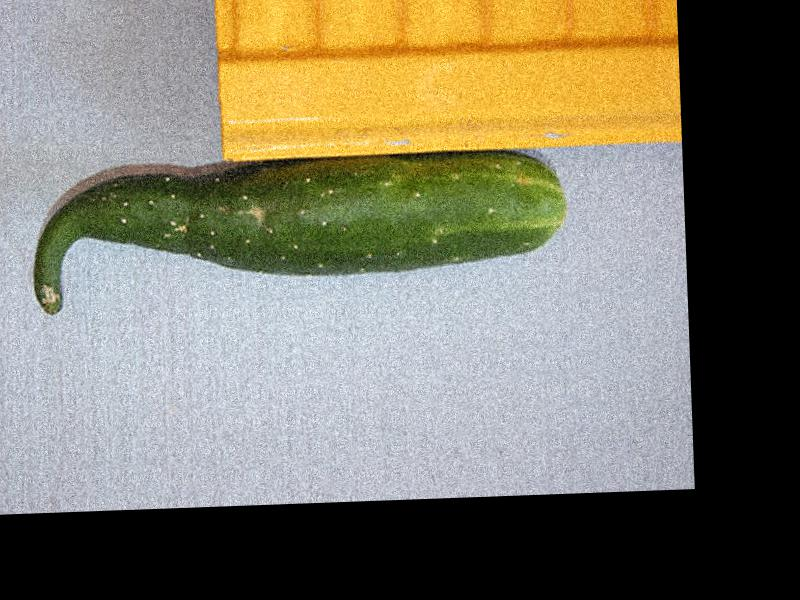Cucumber: (27, 147, 565, 316)
